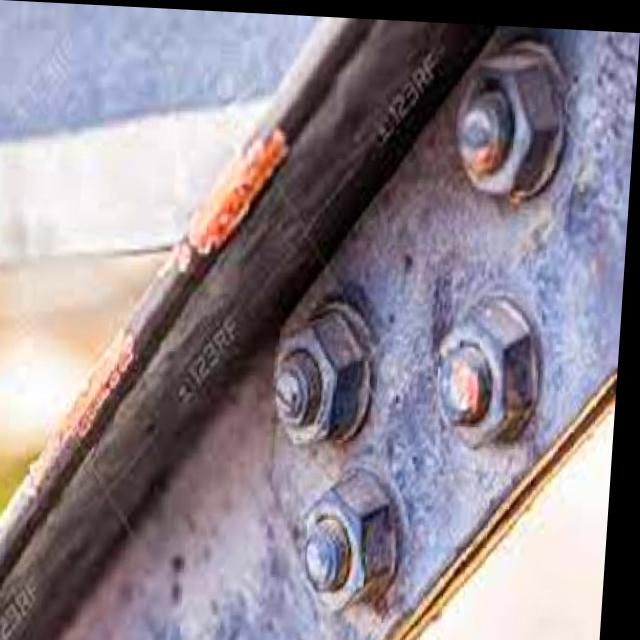Regular bolt: (453, 34, 577, 212), (262, 309, 391, 456), (430, 297, 554, 448), (299, 470, 416, 604)
